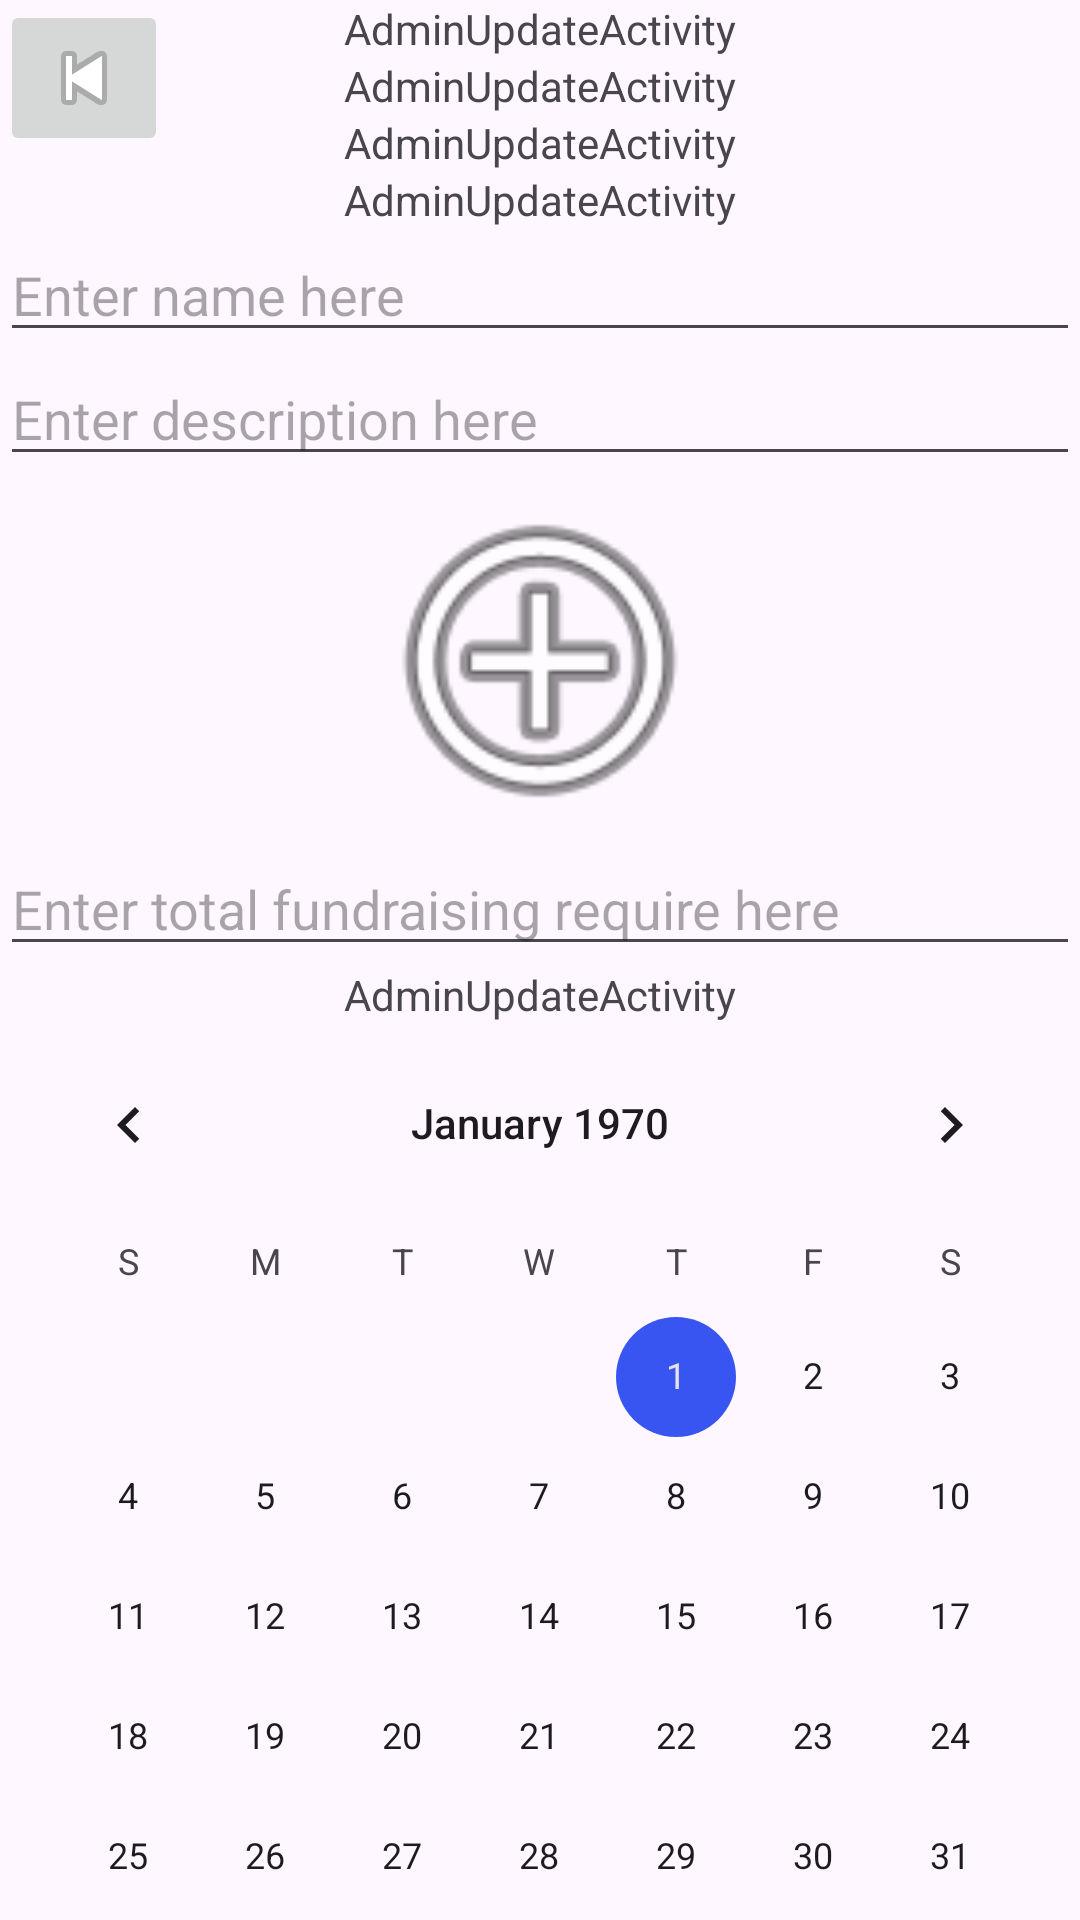

Where icons sit on this 1080 × 1920 app screen, as {"x1": x1, "y1": y1, "x2": x2, "y2": y2}:
add: {"x1": 404, "y1": 525, "x2": 676, "y2": 797}
previous: {"x1": 12, "y1": 18, "x2": 156, "y2": 138}
